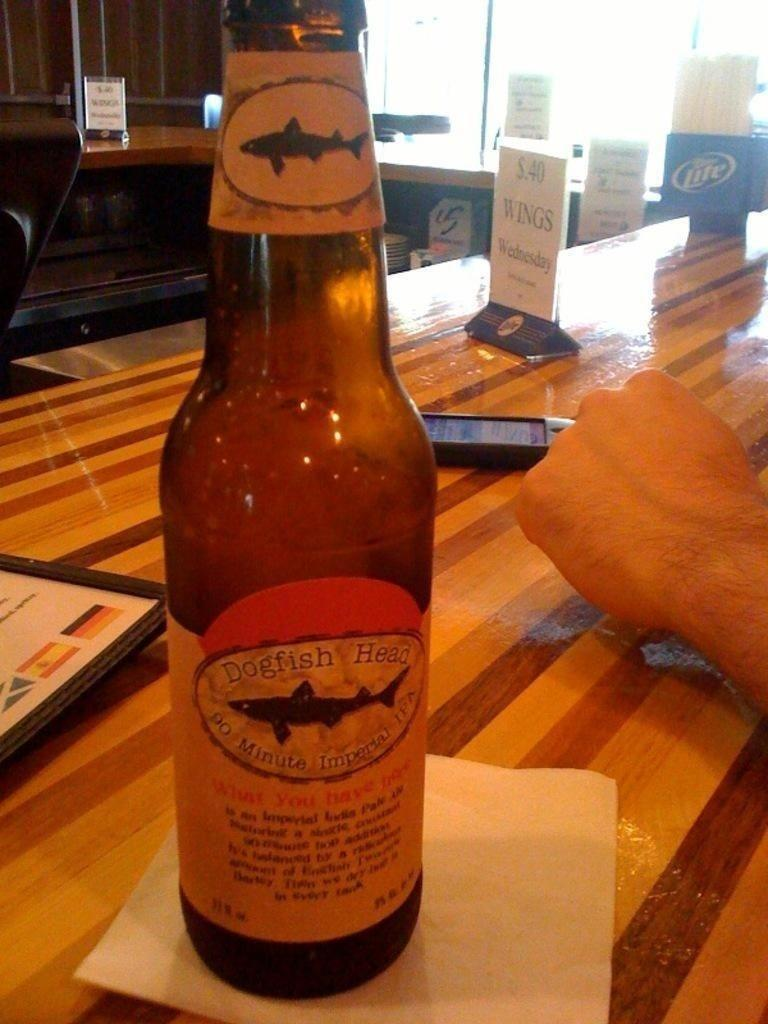bottle-glass: (150, 0, 434, 1006)
